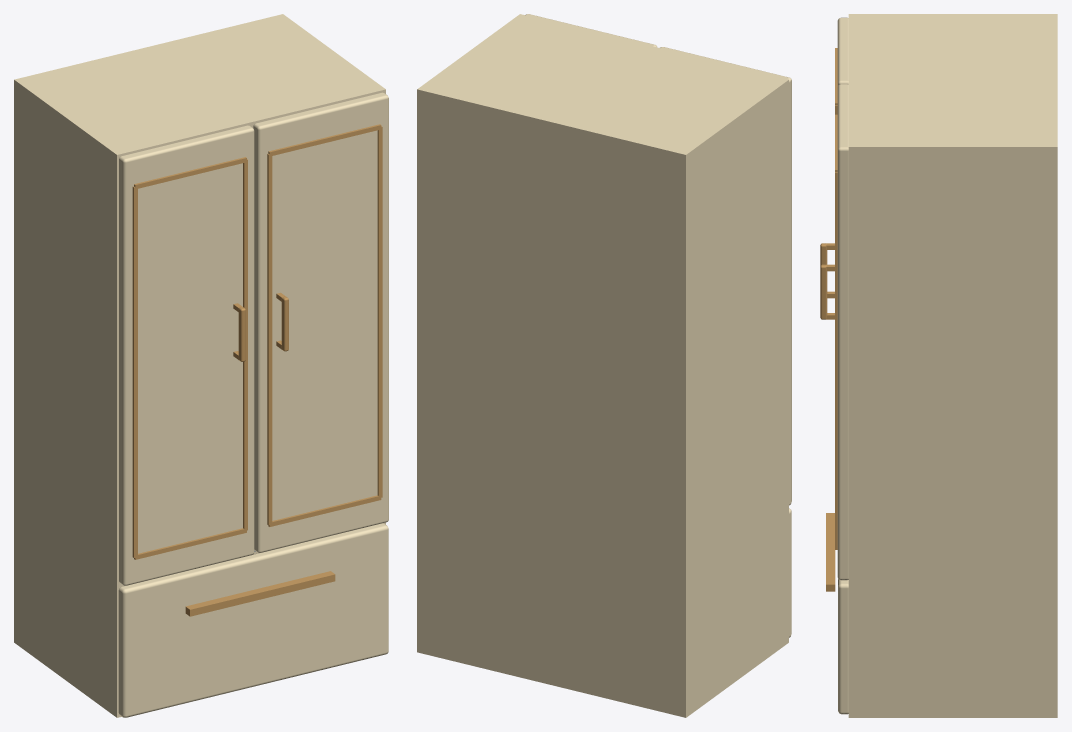
Rendered from fridge_palais-3de776918c54.glb.
3 renders of one model, left to right at view 1: azimuth 30°, elevation 25°; view 2: azimuth 150°, elevation 25°; view 3: azimuth 270°, elevation 25°, orthographic.
Visible parts, largest first — view 1: surface_ivory, surface_brass; view 2: surface_ivory; view 3: surface_ivory, surface_brass.
Part boxes in pixels (<box>): surface_ivory: <box>14,14,388,717</box>; surface_brass: <box>132,124,382,616</box>; surface_ivory: <box>417,14,791,717</box>; surface_ivory: <box>837,14,1057,717</box>; surface_brass: <box>820,48,837,591</box>.
Size of the model in its own units: 0.98 by 1.96 by 0.738.
